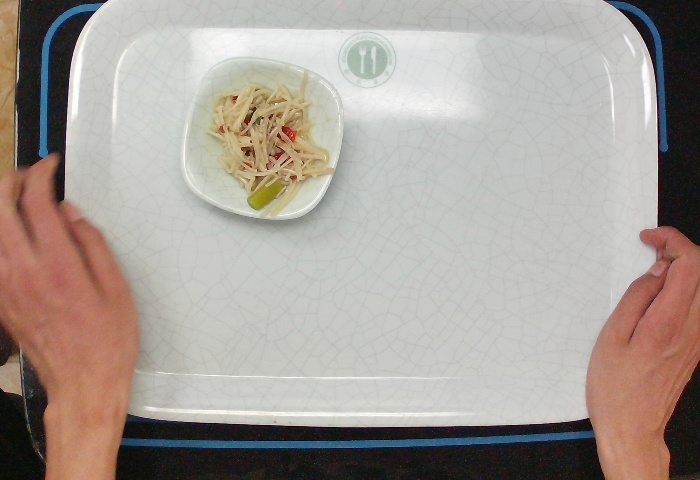JYsf-Si_Fang_Die: (177, 55, 345, 222)
